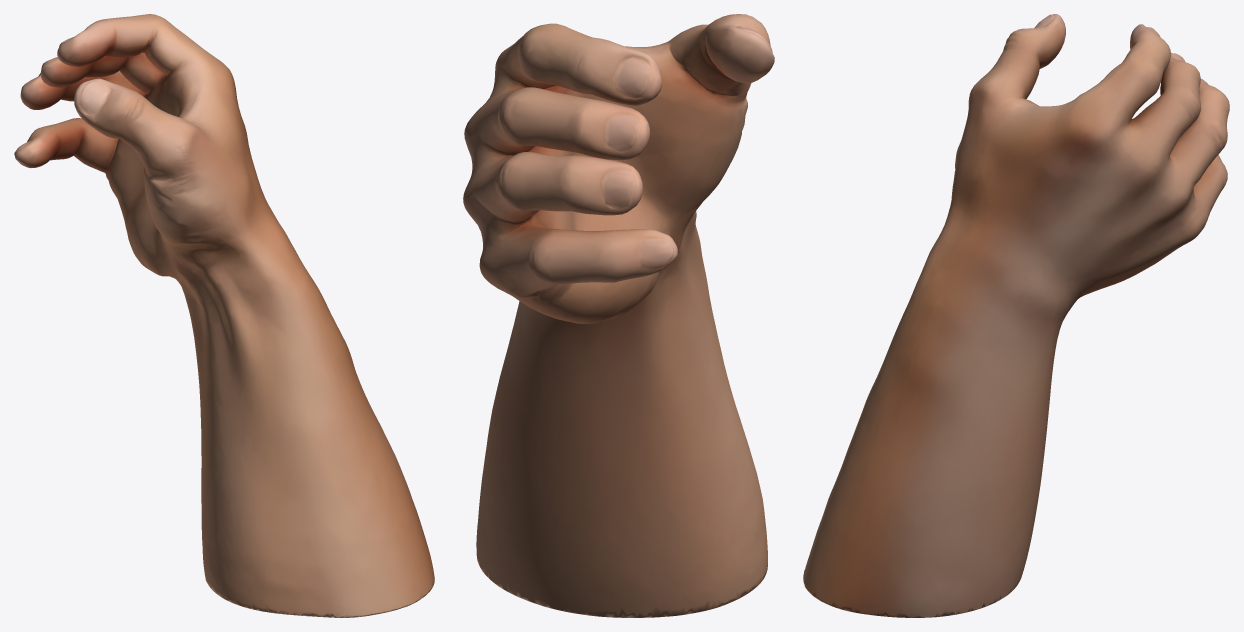
Rendered from hand_right.glb.
The picture shows the model from 3 angles, left to right: view 1: azimuth 30°, elevation 25°; view 2: azimuth 150°, elevation 25°; view 3: azimuth 270°, elevation 25°; orthographic projection. The views are drawn at different scales.
Visible parts, largest first — view 1: tripo_node_c67afdbe-1d30-4b04-ae99-0c648fbed3f7; view 2: tripo_node_c67afdbe-1d30-4b04-ae99-0c648fbed3f7; view 3: tripo_node_c67afdbe-1d30-4b04-ae99-0c648fbed3f7.
Boxes of the visible parts, x1,y1,x2,y2 form: tripo_node_c67afdbe-1d30-4b04-ae99-0c648fbed3f7: [14, 14, 434, 617]; tripo_node_c67afdbe-1d30-4b04-ae99-0c648fbed3f7: [463, 14, 774, 617]; tripo_node_c67afdbe-1d30-4b04-ae99-0c648fbed3f7: [803, 14, 1229, 617].
Size of the model in its own units: 0.5681 by 0.9799 by 0.7739.
1 material, 1 textured.
